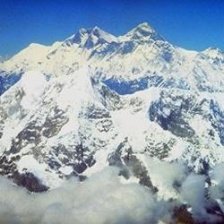neutral: (2, 4, 223, 222)
